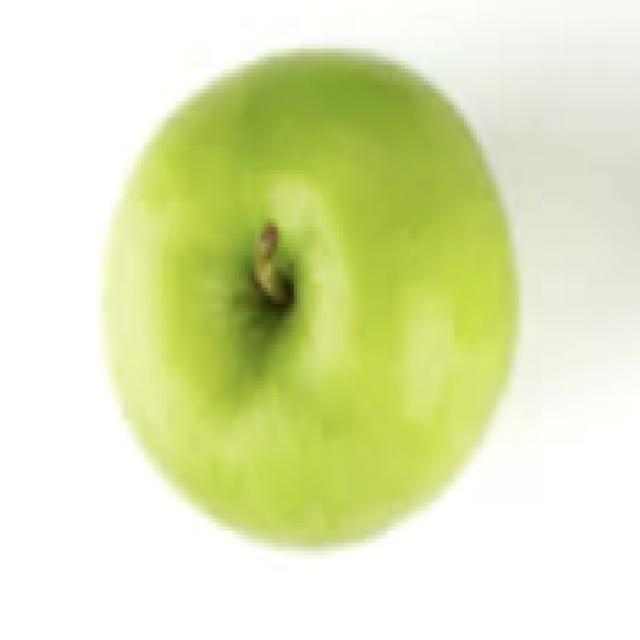Fresh Apple: (127, 72, 520, 513)
